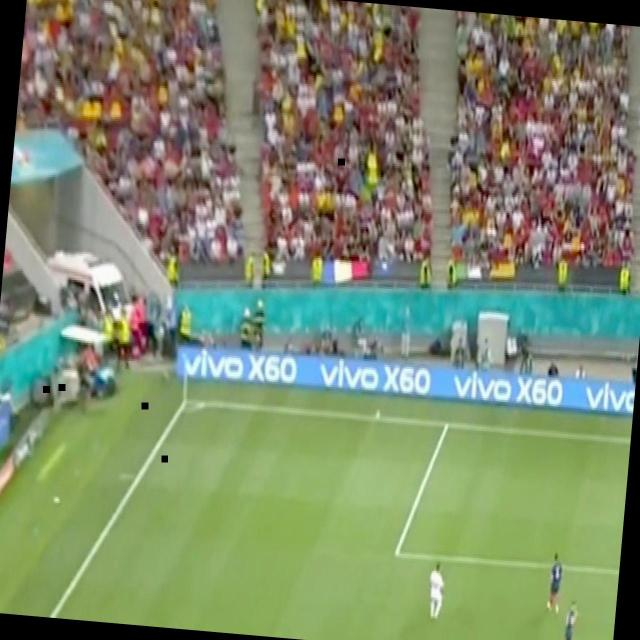player-white: (424, 555, 448, 626), (544, 549, 568, 618), (551, 593, 581, 640)
